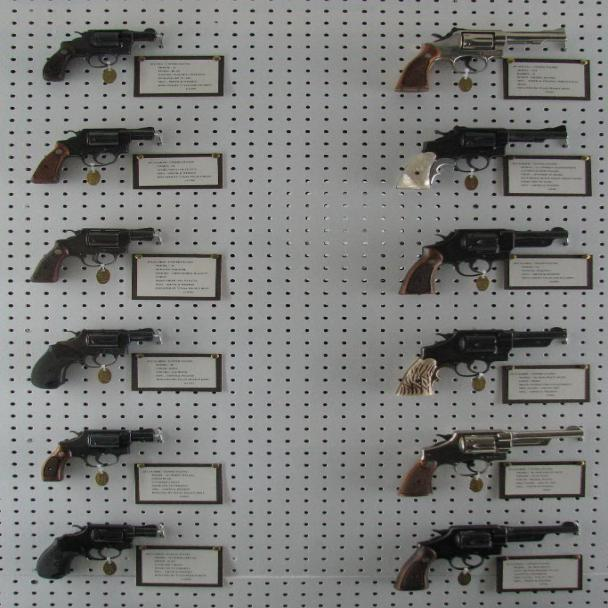Gun: (397, 418, 588, 502), (391, 518, 589, 596), (390, 322, 570, 402), (396, 221, 576, 300), (397, 116, 571, 196), (393, 24, 576, 100), (26, 22, 161, 94), (28, 120, 155, 194), (34, 515, 165, 584), (28, 322, 156, 392), (28, 221, 156, 288), (38, 425, 161, 486)
